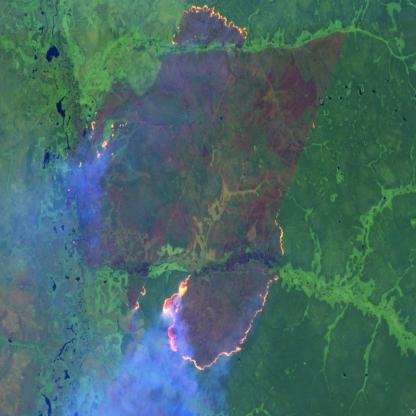fire: (128, 205, 286, 379), (166, 0, 264, 54), (74, 107, 123, 174)
